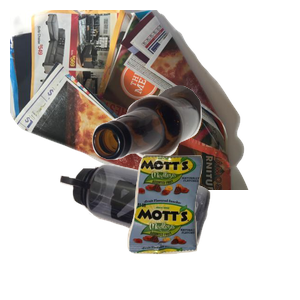glass: (90, 83, 300, 235)
paper: (10, 10, 250, 190)
plastic: (58, 162, 261, 300)
trash: (125, 152, 300, 300)
